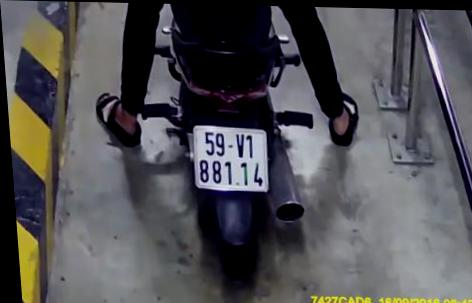License_Plate: (185, 120, 275, 199)
